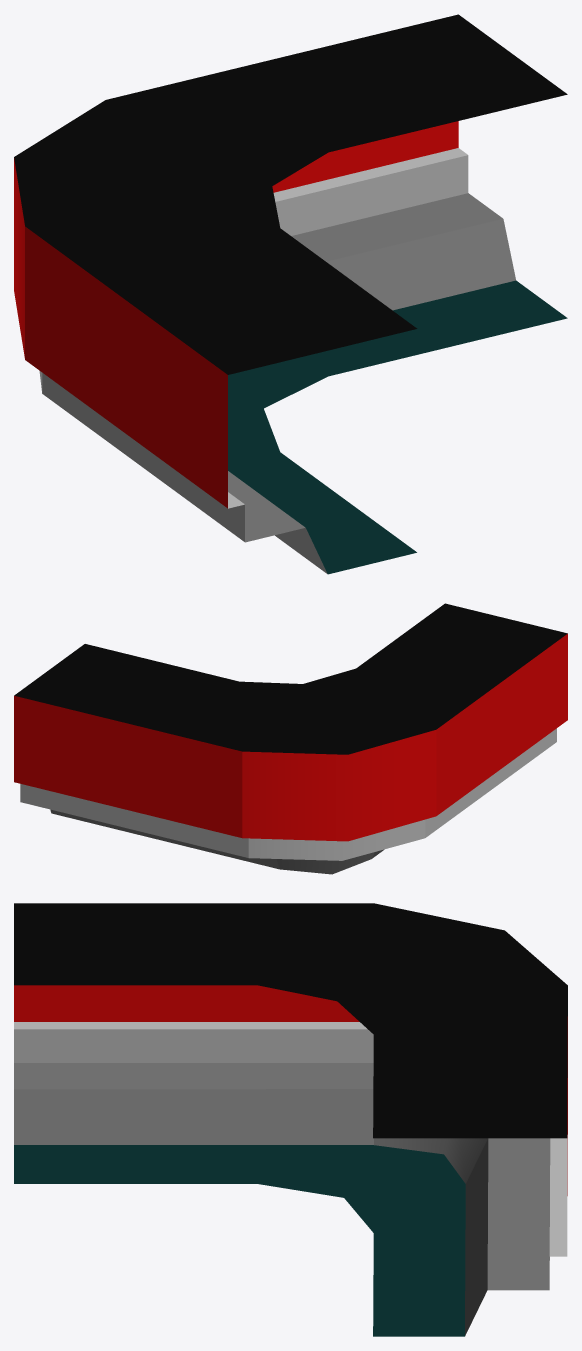
The model's file is curva_externa_elevada.fbx.
3 renders of one model, top to bottom at view 1: azimuth 30°, elevation 25°; view 2: azimuth 150°, elevation 25°; view 3: azimuth 270°, elevation 25°, orthographic. The views are drawn at different scales.
Parts seen in each view (by area): view 1: pieza_curva_externa_elevada; view 2: pieza_curva_externa_elevada; view 3: pieza_curva_externa_elevada.
Part boxes in pixels (left/top/right/bottom): pieza_curva_externa_elevada: left=14, top=14, right=567, bottom=574; pieza_curva_externa_elevada: left=14, top=603, right=567, bottom=874; pieza_curva_externa_elevada: left=14, top=903, right=567, bottom=1336.
Bounding box in the file's own units: 74.95 × 29.58 × 74.76.
